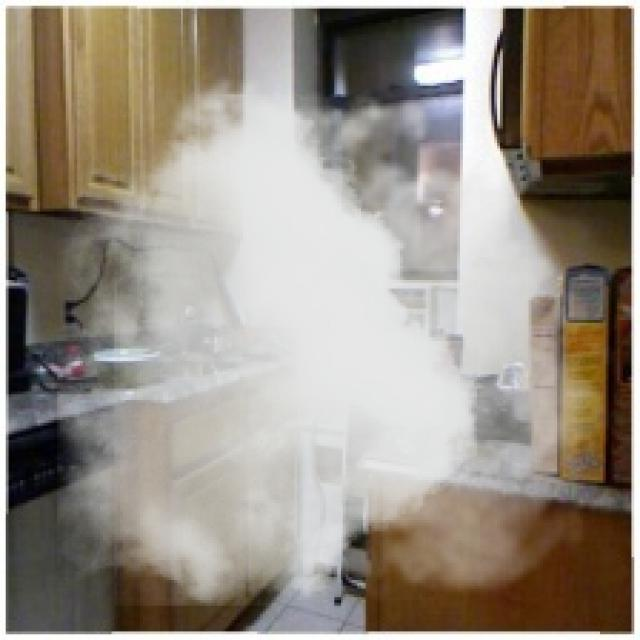smoke: (57, 60, 626, 606)
